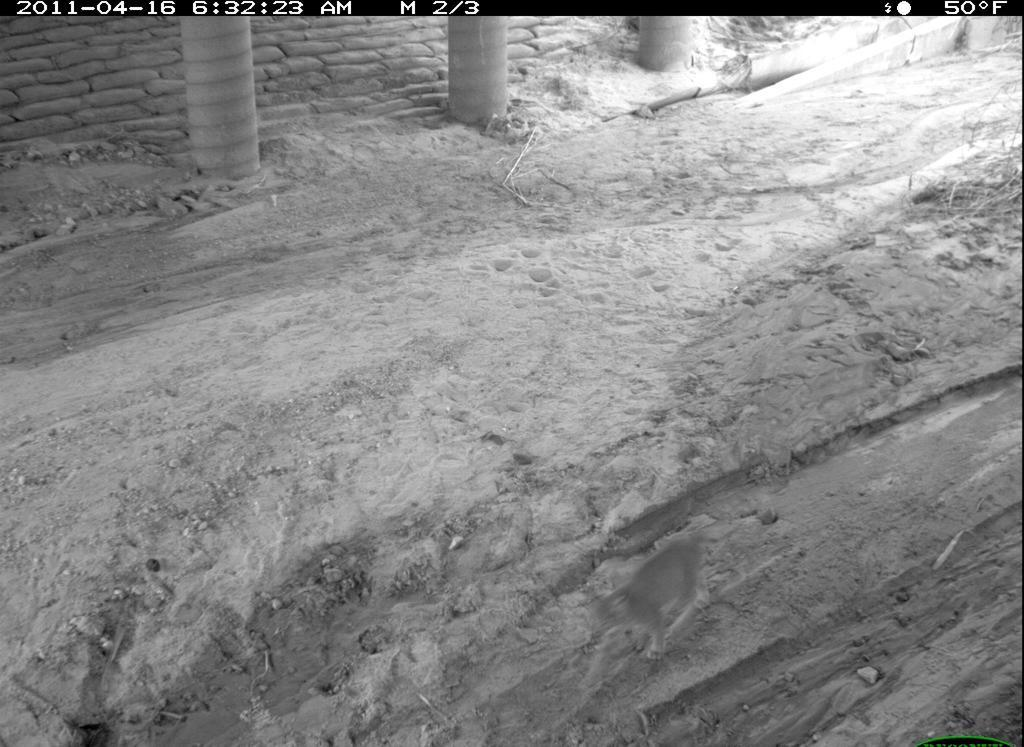bobcat: (574, 524, 721, 690)
